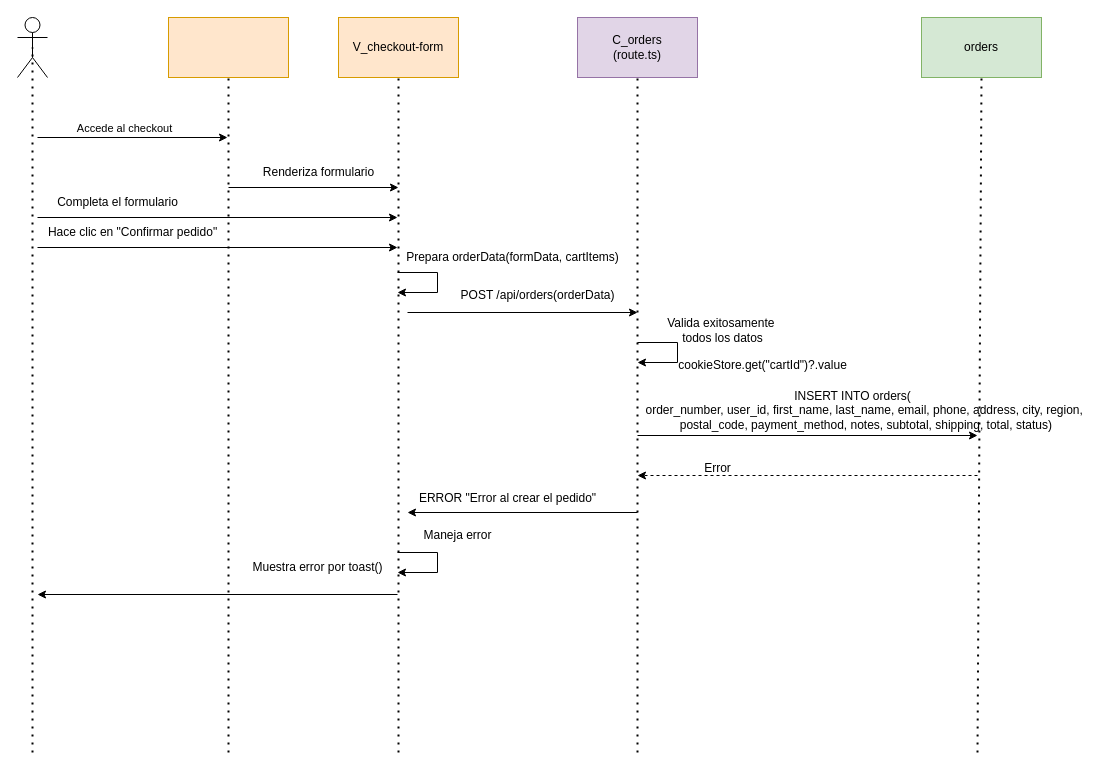
The diagram is 1115 pixels wide and 772 high, and some of its shapes have lost their labels. Here are the shapes that lost their labels. From the top down, the box of each, then its label:
(16, 16, 48, 78): Actor
(168, 16, 288, 78): V_checkout
